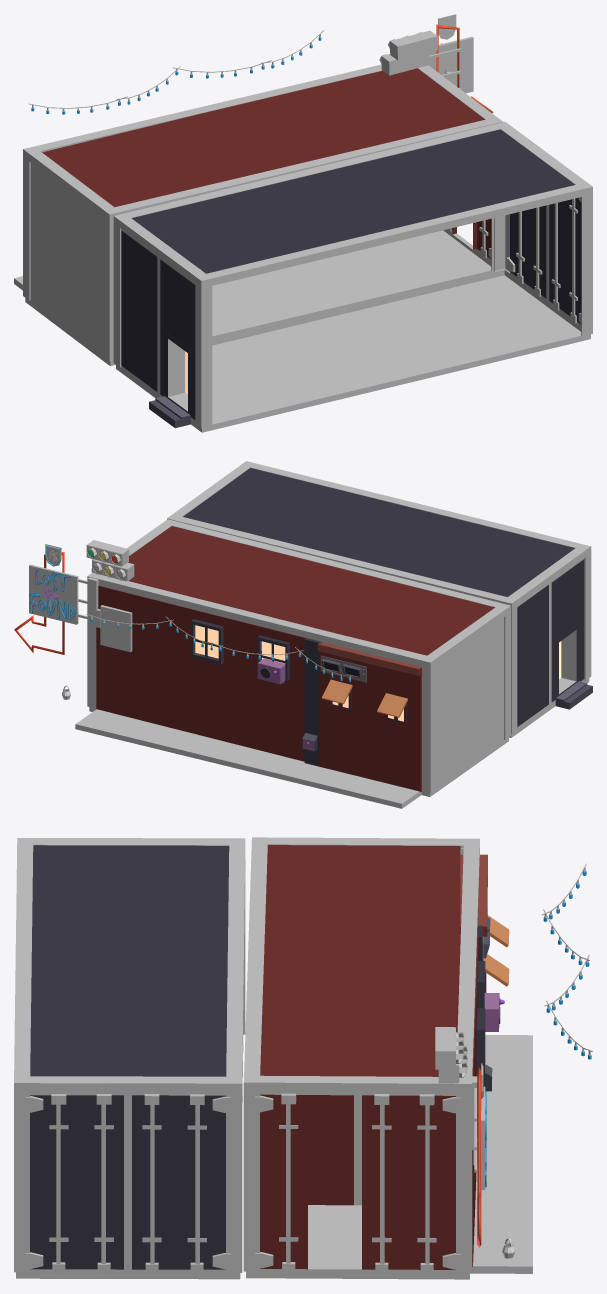
File: CMCannedSoup.fbx
3 views of the same model, one above another, from view 1: azimuth 30°, elevation 25°; view 2: azimuth 150°, elevation 25°; view 3: azimuth 270°, elevation 25° (orthographic). The views are drawn at different scales.
Parts seen in each view (by area): view 1: BoxCrate.059, BoxCrate.058, BoozlehutSign, TrafficLight.001, String Lights.004, TrafficLight.002; view 2: BoxCrate.058, BoxCrate.059, CrateFacade.001, CrateFacade.005, Platform.019, BoozlehutSign, Windows.053, CrateSupport, Windows.054, LostandFoundText, TrafficLight.001, Vents.005 (+4 smaller); view 3: BoxCrate.059, BoxCrate.058, Platform.019, TrafficLight.001, String Lights.004, BoozlehutSign, Windows.053, CrateFacade.005, Windows.054, CrateFacade.001, ArrowSign.001, ACUnit.003.
Boxes of the visible parts, bbox=[...] form: BoxCrate.059: bbox=[113, 122, 592, 432]; BoxCrate.058: bbox=[23, 64, 502, 366]; BoozlehutSign: bbox=[429, 36, 473, 93]; TrafficLight.001: bbox=[388, 30, 437, 60]; String Lights.004: bbox=[29, 30, 324, 114]; TrafficLight.002: bbox=[379, 52, 429, 75]; BoxCrate.058: bbox=[87, 519, 510, 796]; BoxCrate.059: bbox=[167, 461, 592, 737]; CrateFacade.001: bbox=[96, 585, 306, 761]; CrateFacade.005: bbox=[317, 642, 421, 791]; Platform.019: bbox=[75, 709, 421, 808]; BoozlehutSign: bbox=[29, 564, 132, 652]; Windows.053: bbox=[191, 619, 289, 680]; CrateSupport: bbox=[304, 638, 321, 766]; Windows.054: bbox=[321, 679, 407, 723]; LostandFoundText: bbox=[29, 568, 75, 619]; TrafficLight.001: bbox=[86, 540, 129, 566]; Vents.005: bbox=[320, 655, 366, 682]; BoxCrate.059: bbox=[14, 838, 245, 1279]; BoxCrate.058: bbox=[243, 837, 479, 1279]; Platform.019: bbox=[470, 1035, 532, 1273]; TrafficLight.001: bbox=[435, 1027, 464, 1069]; String Lights.004: bbox=[541, 863, 592, 1059]; BoozlehutSign: bbox=[472, 1076, 485, 1189]; Windows.053: bbox=[476, 961, 485, 1082]; CrateFacade.005: bbox=[460, 854, 487, 936]; Windows.054: bbox=[483, 915, 509, 992]; CrateFacade.001: bbox=[460, 930, 478, 1266]; ArrowSign.001: bbox=[477, 1067, 481, 1247]; ACUnit.003: bbox=[484, 993, 504, 1031].
Bounding box in the file's own units: 3017 × 1077 × 2419.
